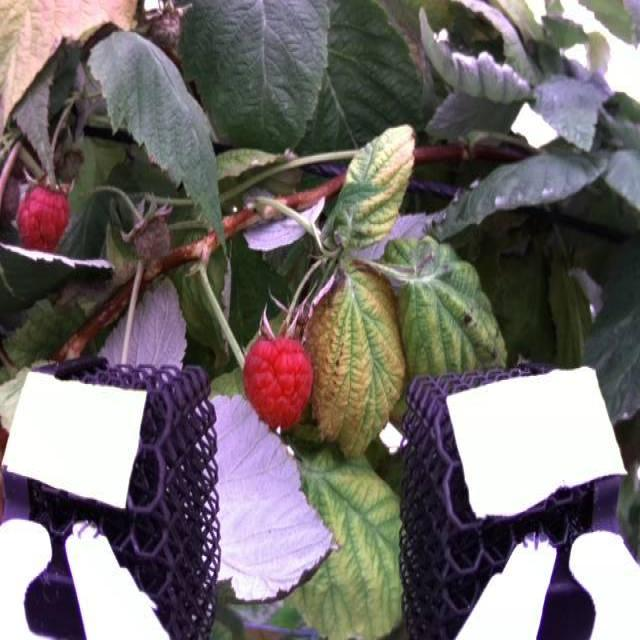Riped berries: (236, 326, 324, 432), (16, 177, 75, 258)
